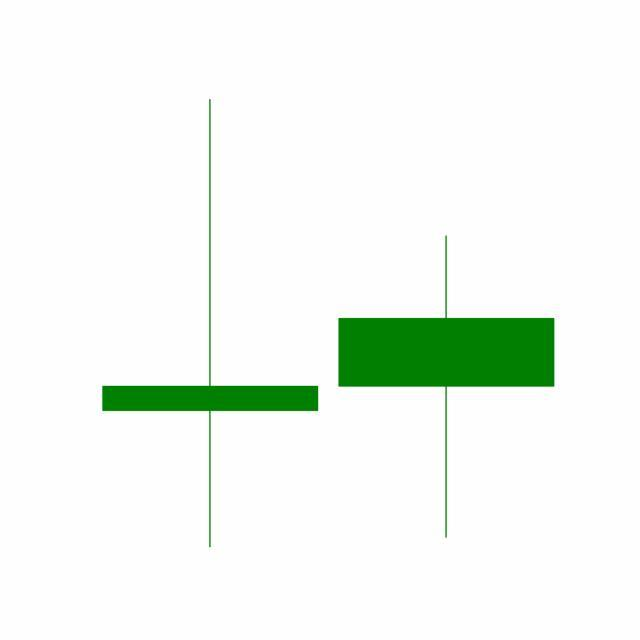Spinning Top: (328, 232, 566, 541)
